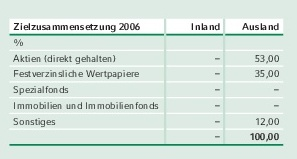table: (0, 0, 297, 159)
